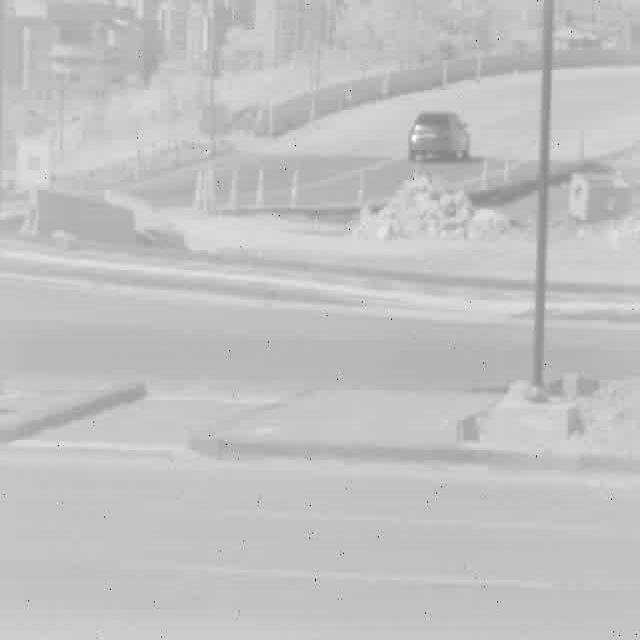Car: (409, 112, 472, 163)
